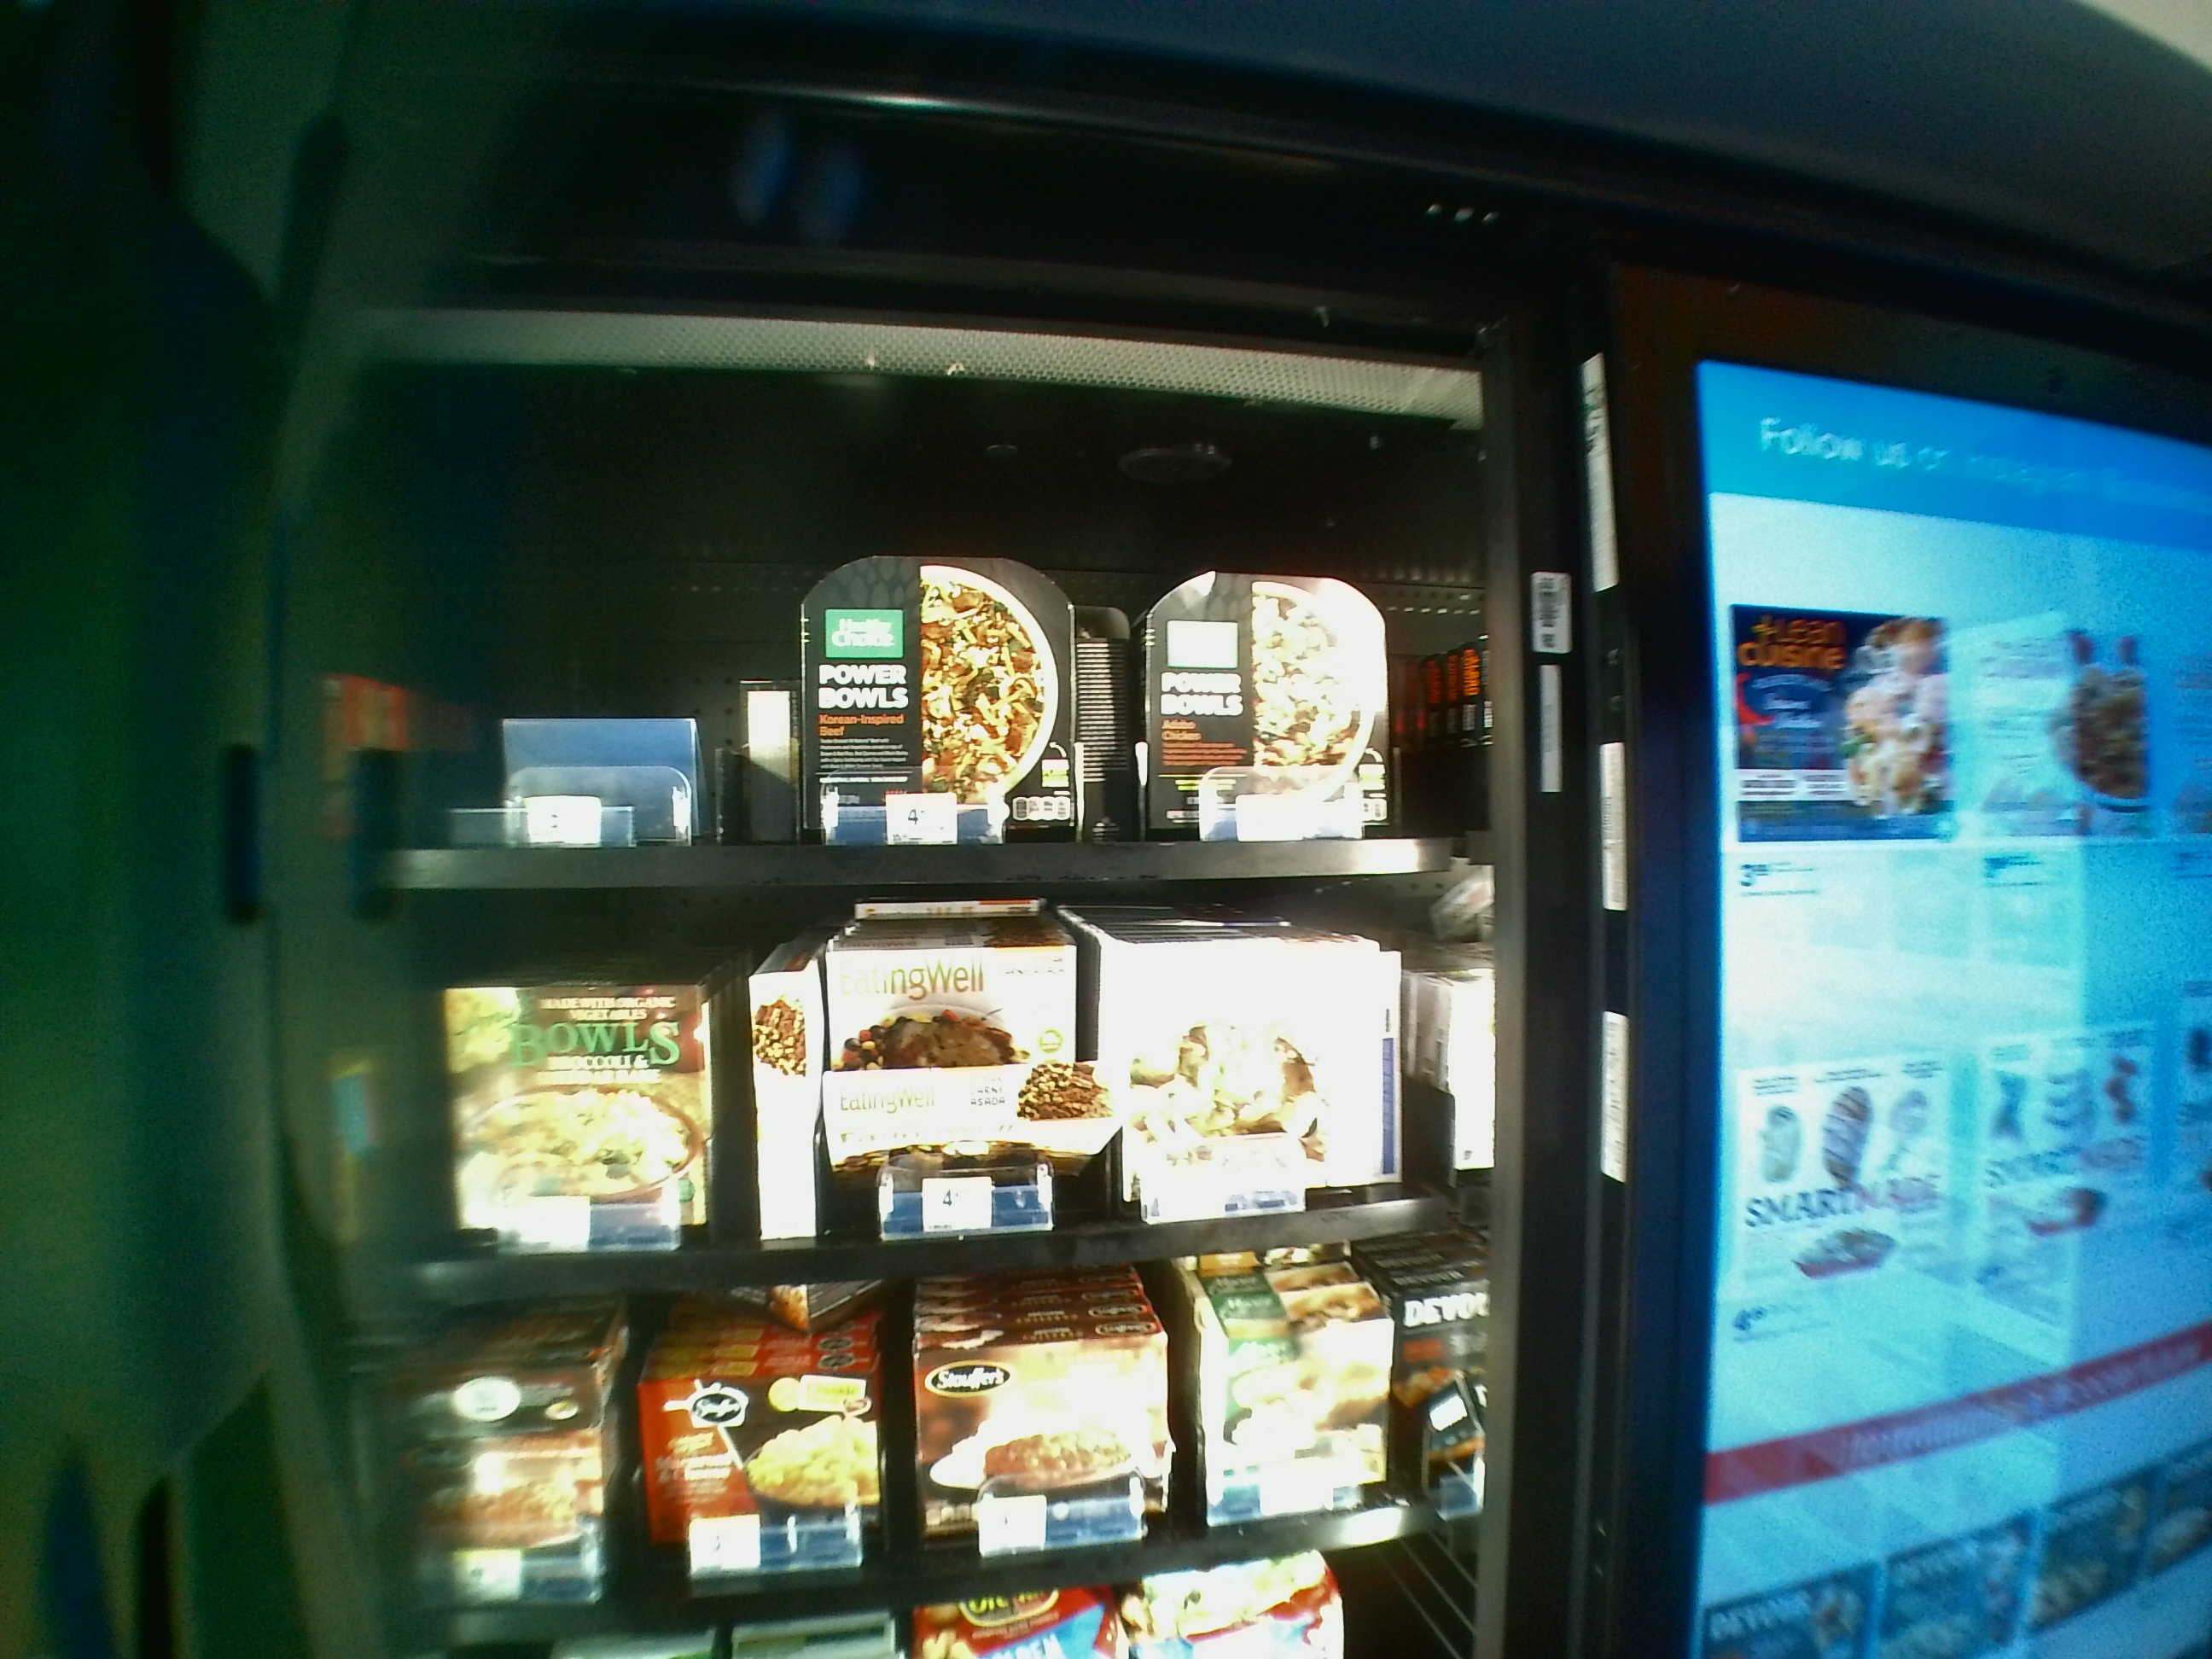shelf: (355, 420, 1474, 882), (355, 899, 1480, 1328)
